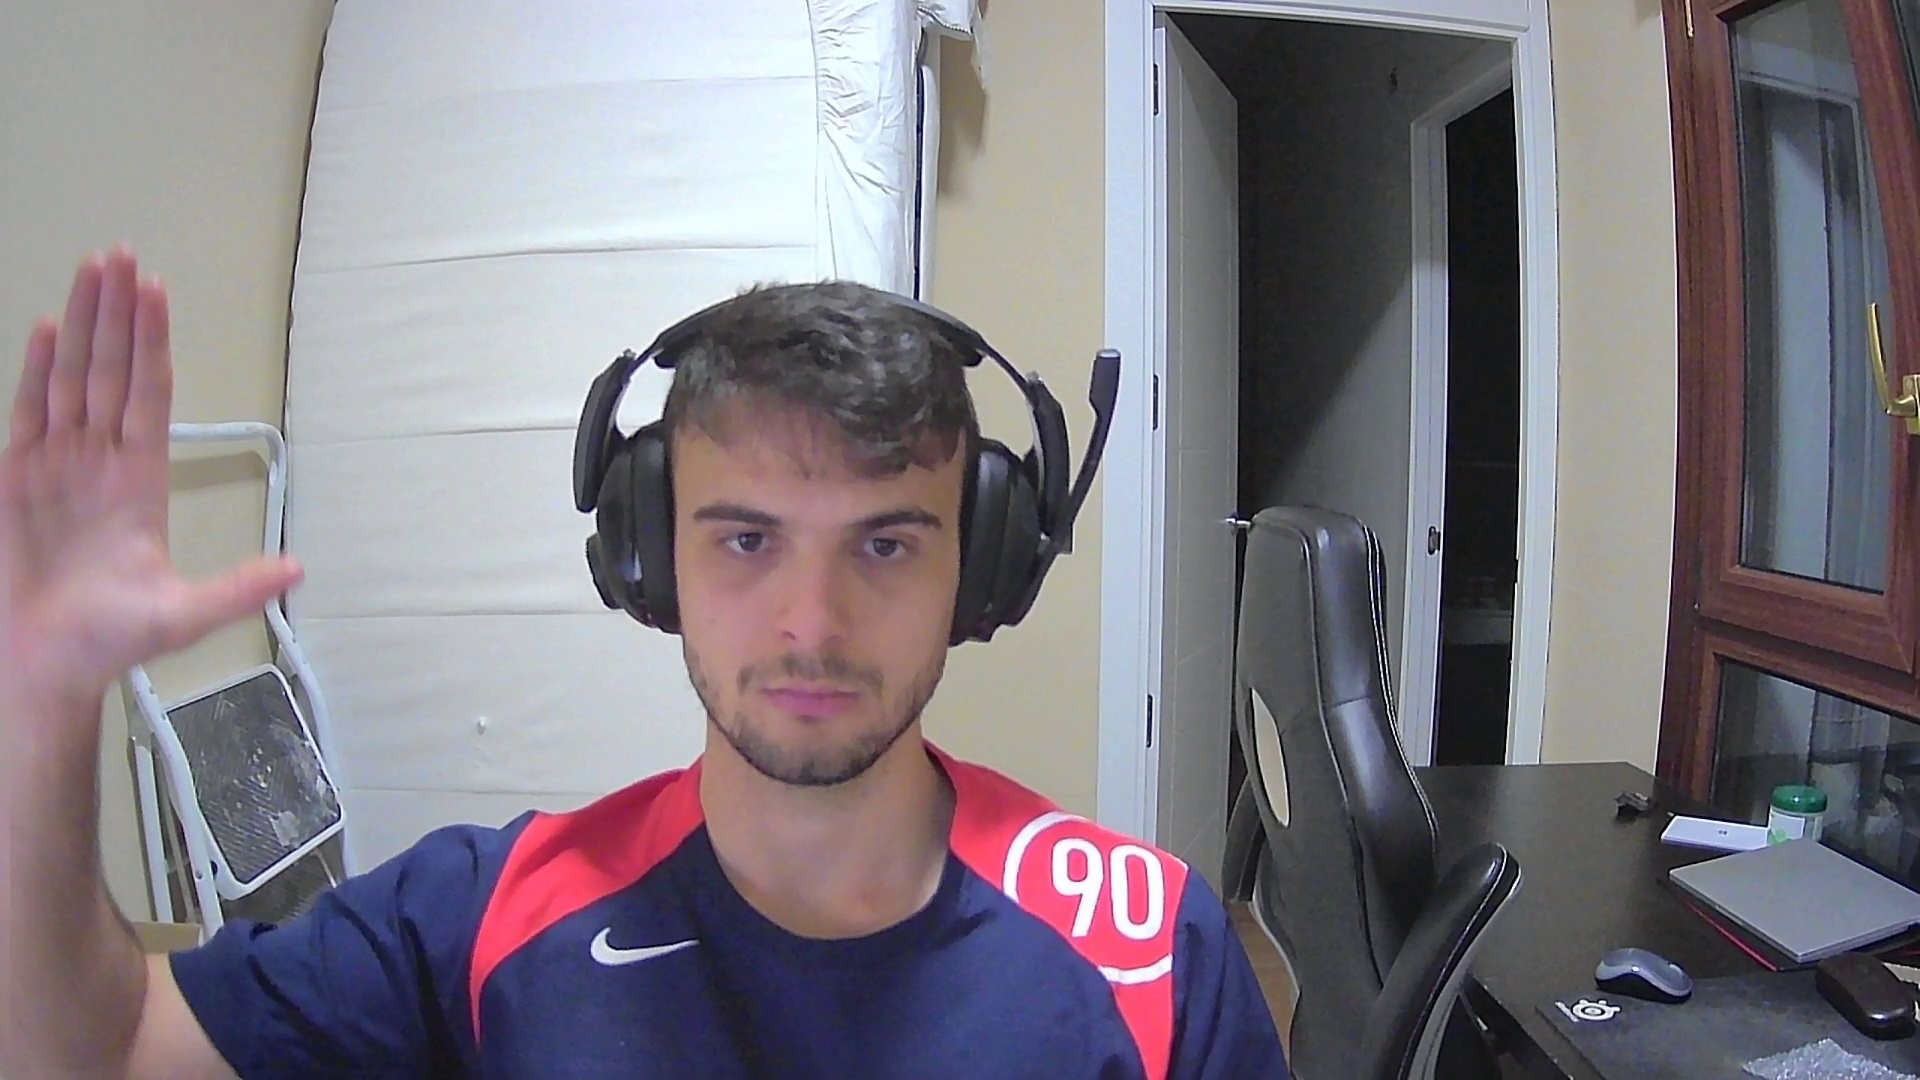Palm: (3, 240, 311, 680)
